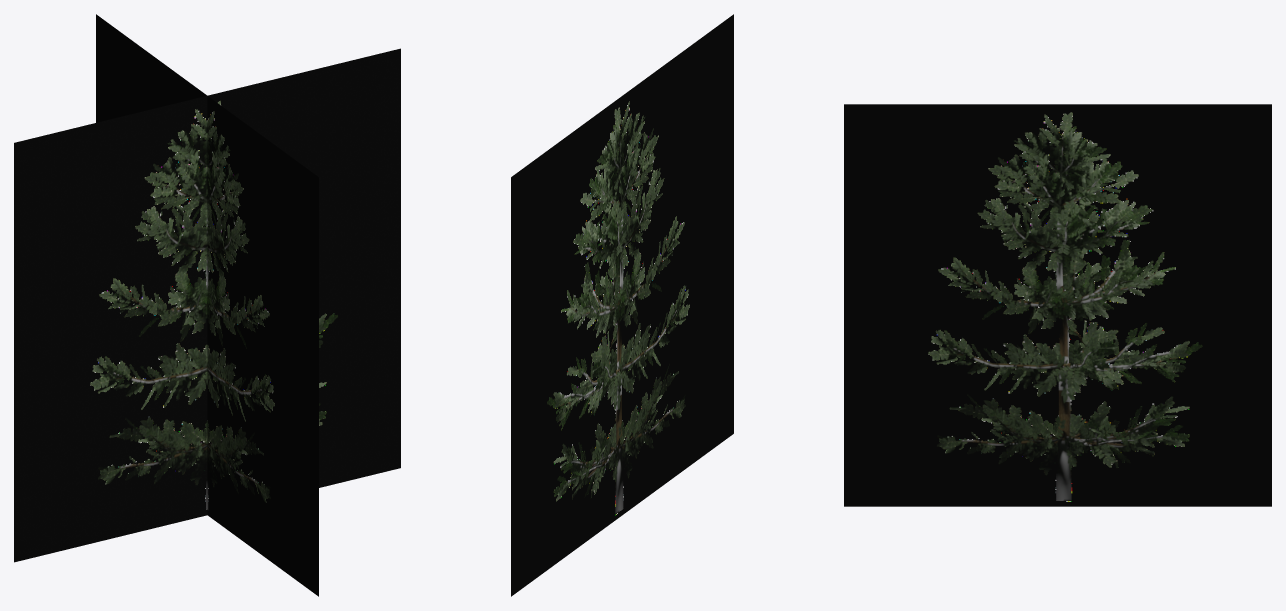
The picture shows the model from 3 angles, left to right: view 1: azimuth 30°, elevation 25°; view 2: azimuth 150°, elevation 25°; view 3: azimuth 270°, elevation 25°; orthographic projection. The views are drawn at different scales.
Parts seen in each view (by area): view 1: Plane; view 2: Plane; view 3: Plane.
Part boxes in pixels (x1,y1,x2,y2): Plane: (14, 14, 400, 596); Plane: (511, 14, 733, 596); Plane: (844, 104, 1271, 506).
Bounding box in the file's own units: 6.59 × 6.83 × 6.59.
1 material, 1 textured.
